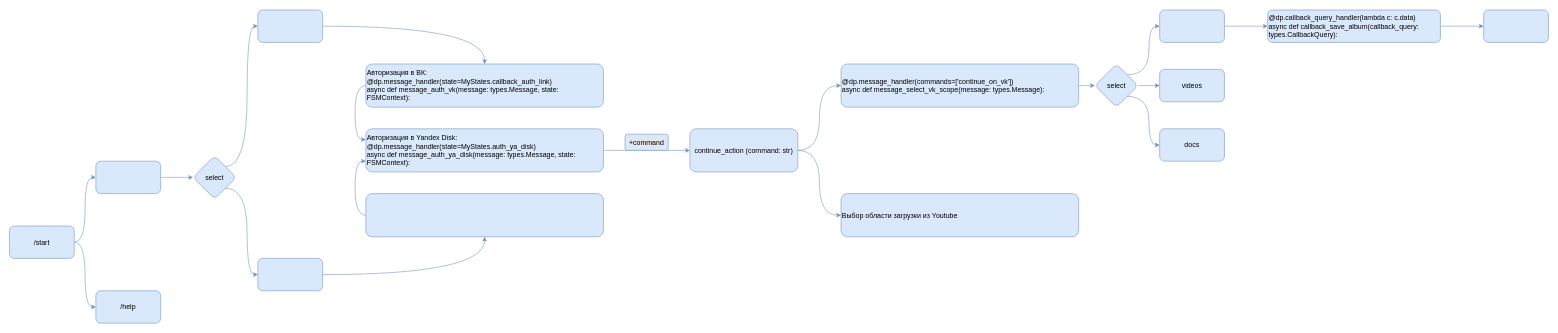
Image size: 1558x333. Some labels were removed from this diagram. The shapes that lost their labels are listed below. From the top down, each one's centre as x and y in pixels, then its label:
At (x=290, y=25): "buttonVk".
At (x=1191, y=25): "photos".
At (x=1515, y=25): "ссылка на папку с файлами на яндекс диске пользователя".
At (x=128, y=177): "/select".
At (x=484, y=215): "Авторизация в YouTube".
At (x=290, y=274): "buttonYt".
